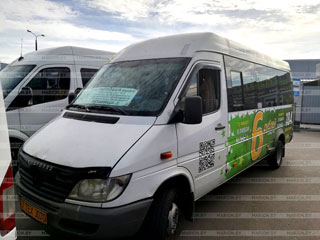van: (20, 32, 296, 234)
